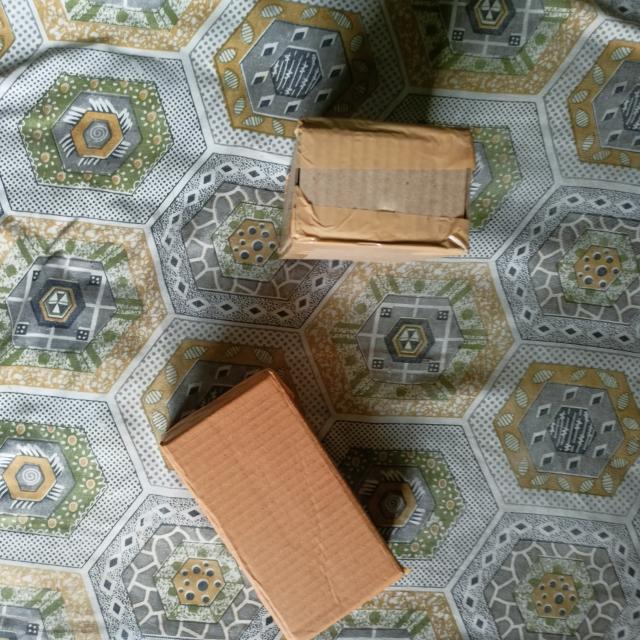box: (166, 377, 404, 640), (300, 120, 473, 252)
